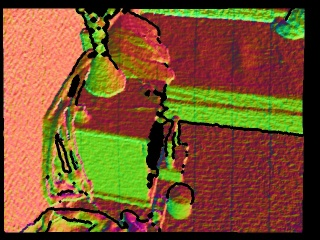station: (156, 115, 192, 184)
